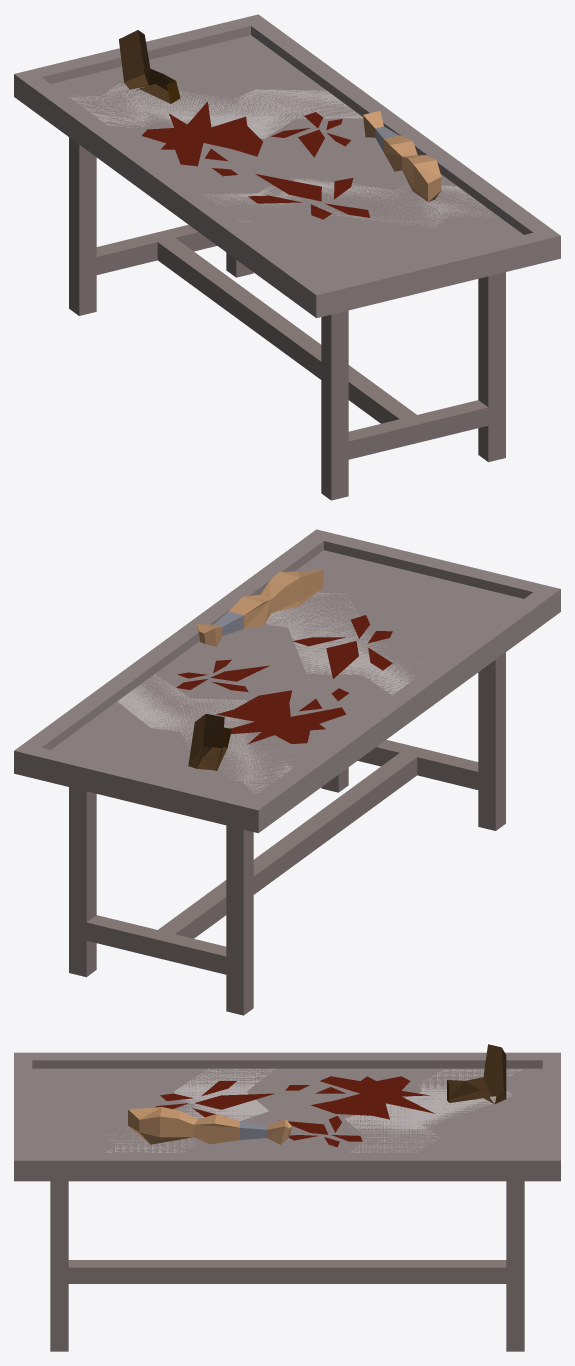
File: obj_operating_table_2_0.obj
3 renders of one model, top to bottom at view 1: azimuth 30°, elevation 25°; view 2: azimuth 150°, elevation 25°; view 3: azimuth 270°, elevation 25°, orthographic. The views are drawn at different scales.
Size of the model in its own units: 0.875 by 0.9375 by 1.88.
